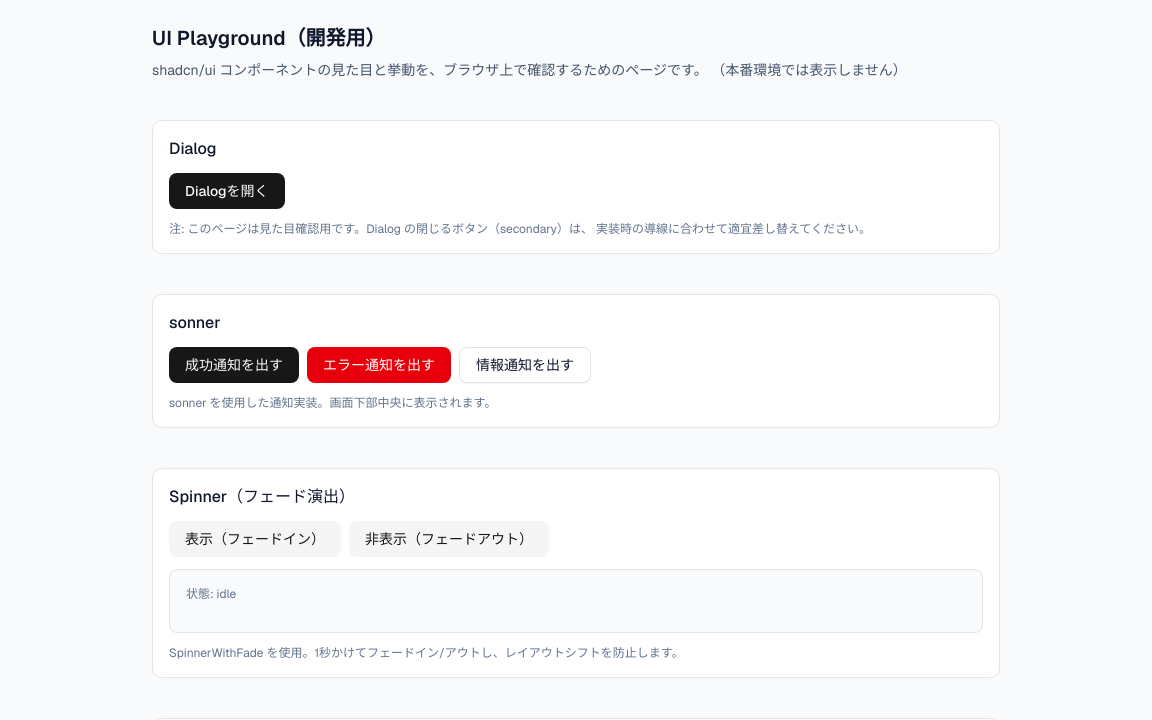
Test: UiPlayground › Dialogのトリガーボタンで内容が表示される
Click the button "Dialogを開く". click: [227, 191]
box: [169, 173, 285, 209]
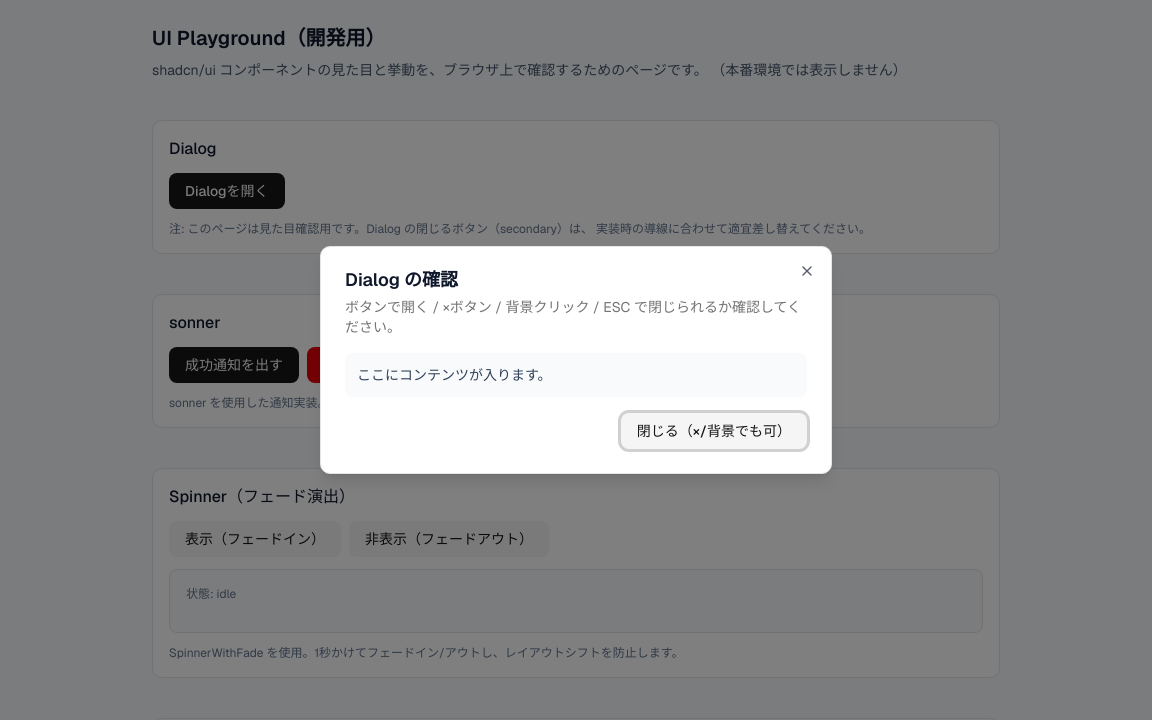
Result: the heading "Dialog の確認" is shown at [345, 268, 458, 291]
Result: the text "ここにコンテンツが入ります。" is shown at [345, 353, 807, 397]
